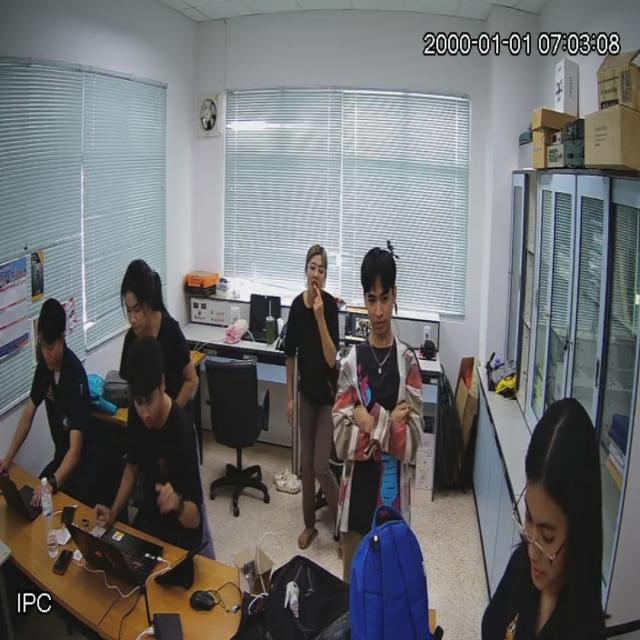normal: (98, 339, 204, 556), (341, 250, 416, 531), (0, 300, 93, 504), (288, 246, 340, 552)
